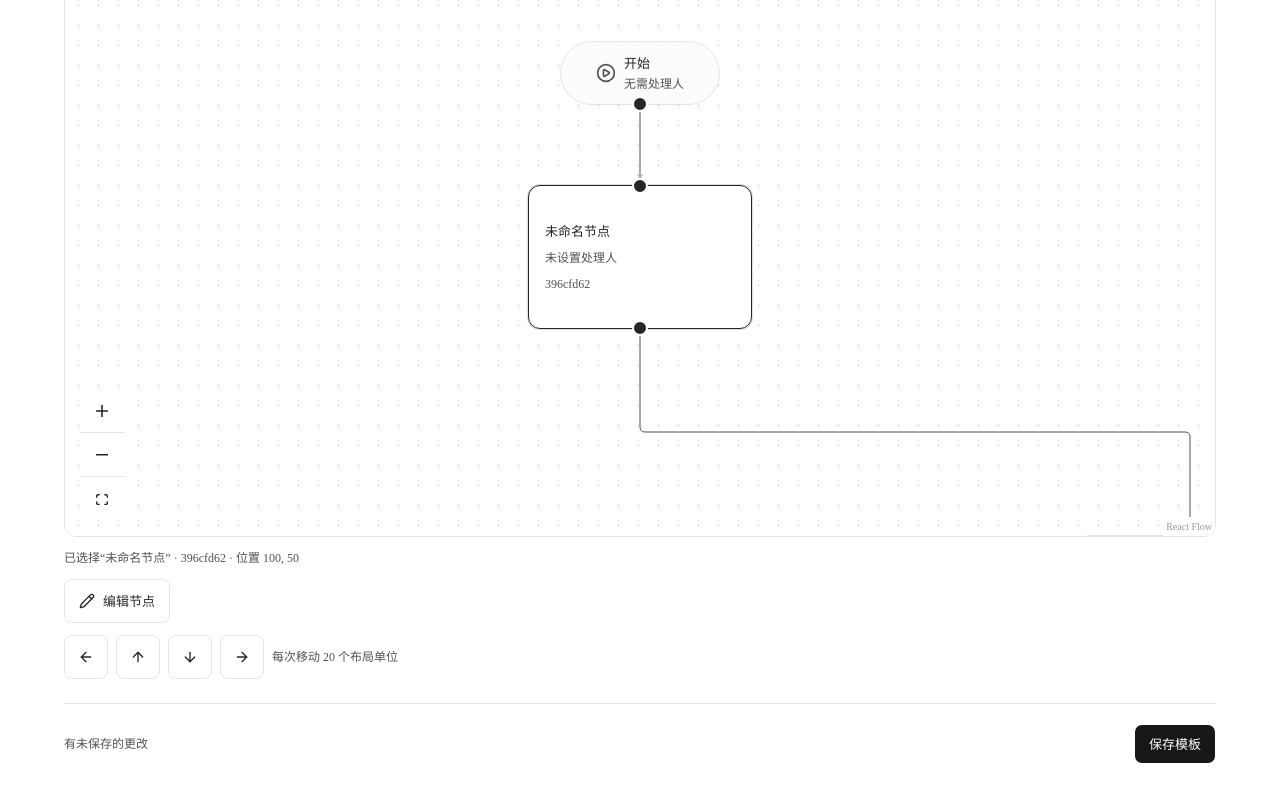
Test: shadcn project and template workflows › opens only the workflow editor at the new-template route without loading legacy tasks or Agent choices
The width and height of the screenshot is (1280, 800).
(page scrolled)
Check: the field labelled "节点名称" is not shown
Check: the field labelled "工作说明" is not shown
Click the button "编辑节点".
click(117, 602)  # box [64,580,170,624]
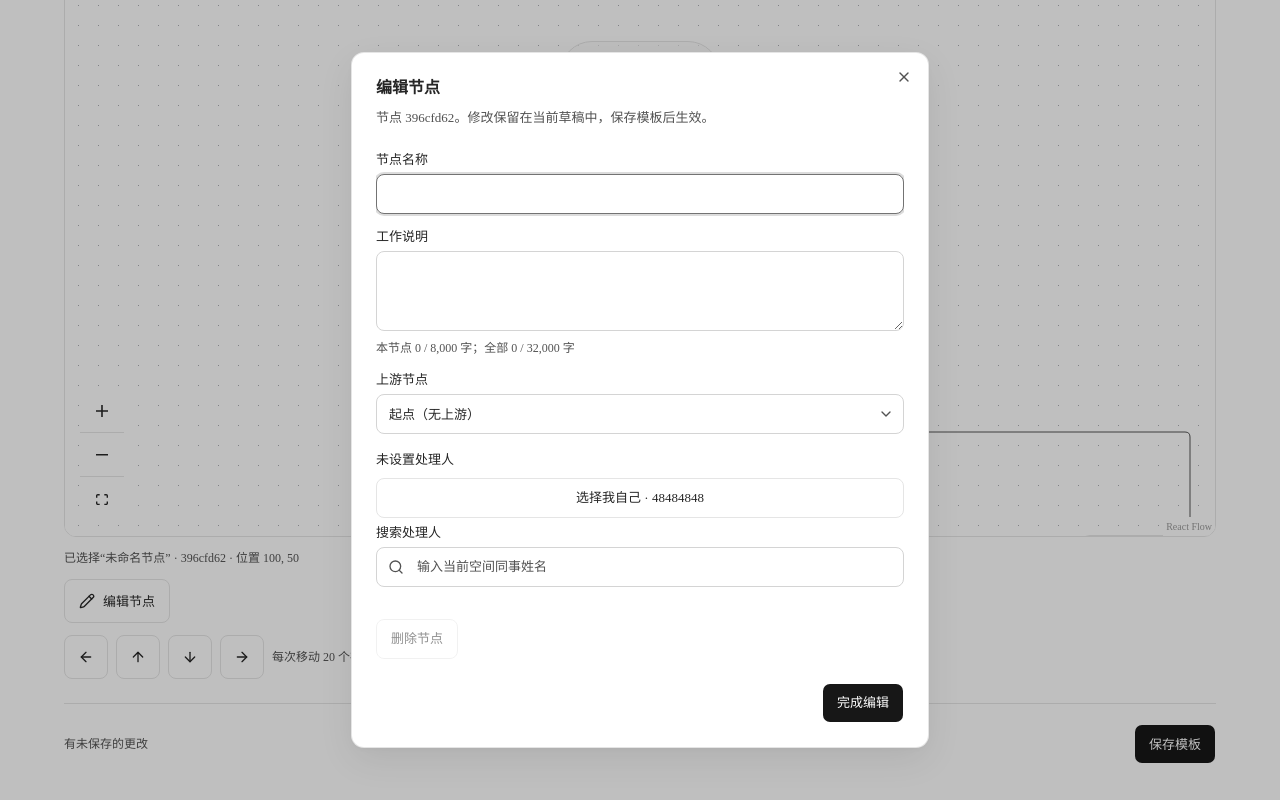
Check: the field labelled "节点名称" is shown, box [376,174,904,214]
Check: the text box labelled "工作说明" is shown, box [376,252,904,332]
